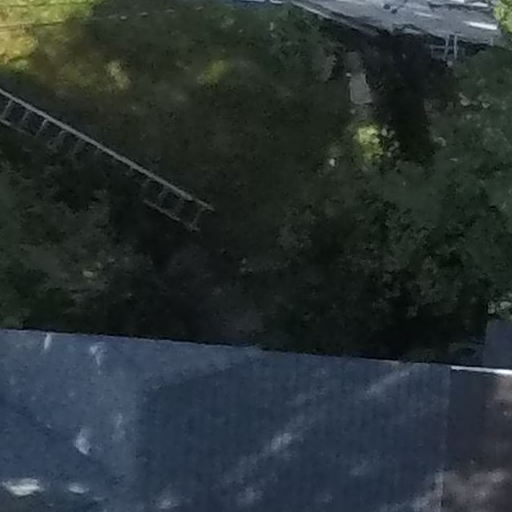ladder: (1, 77, 210, 242)
